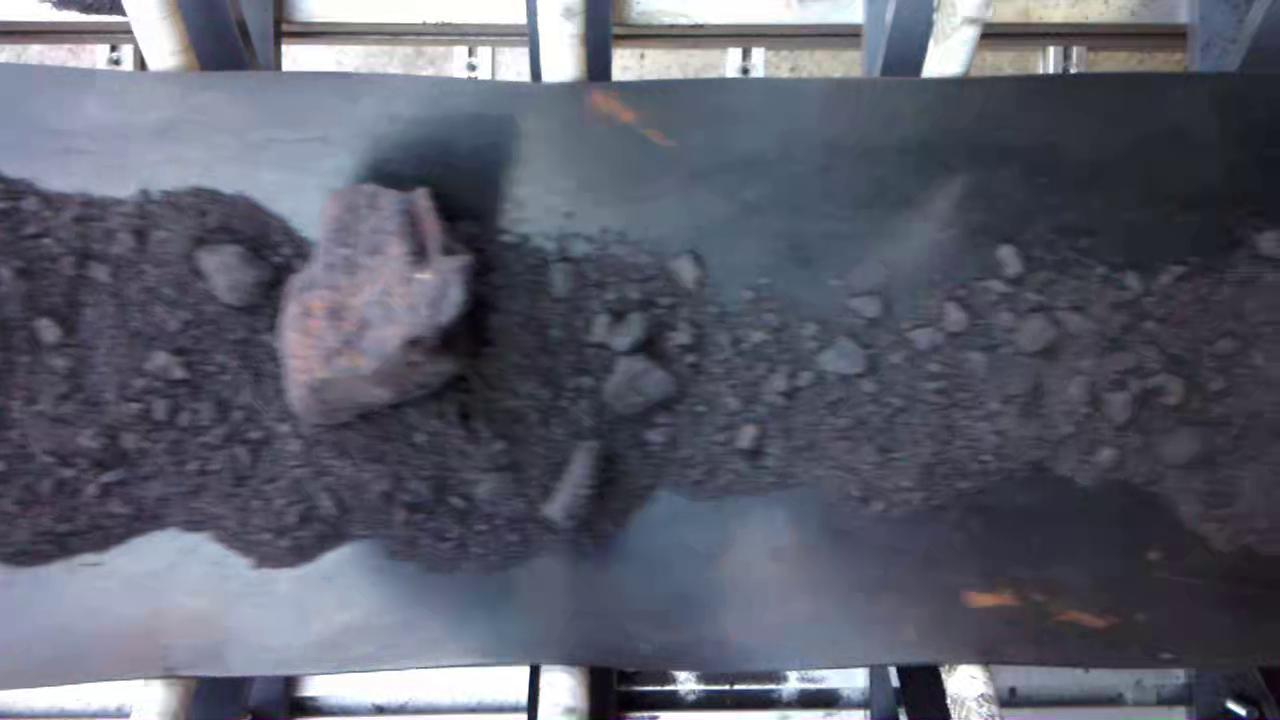conveyor: (13, 99, 1273, 650)
